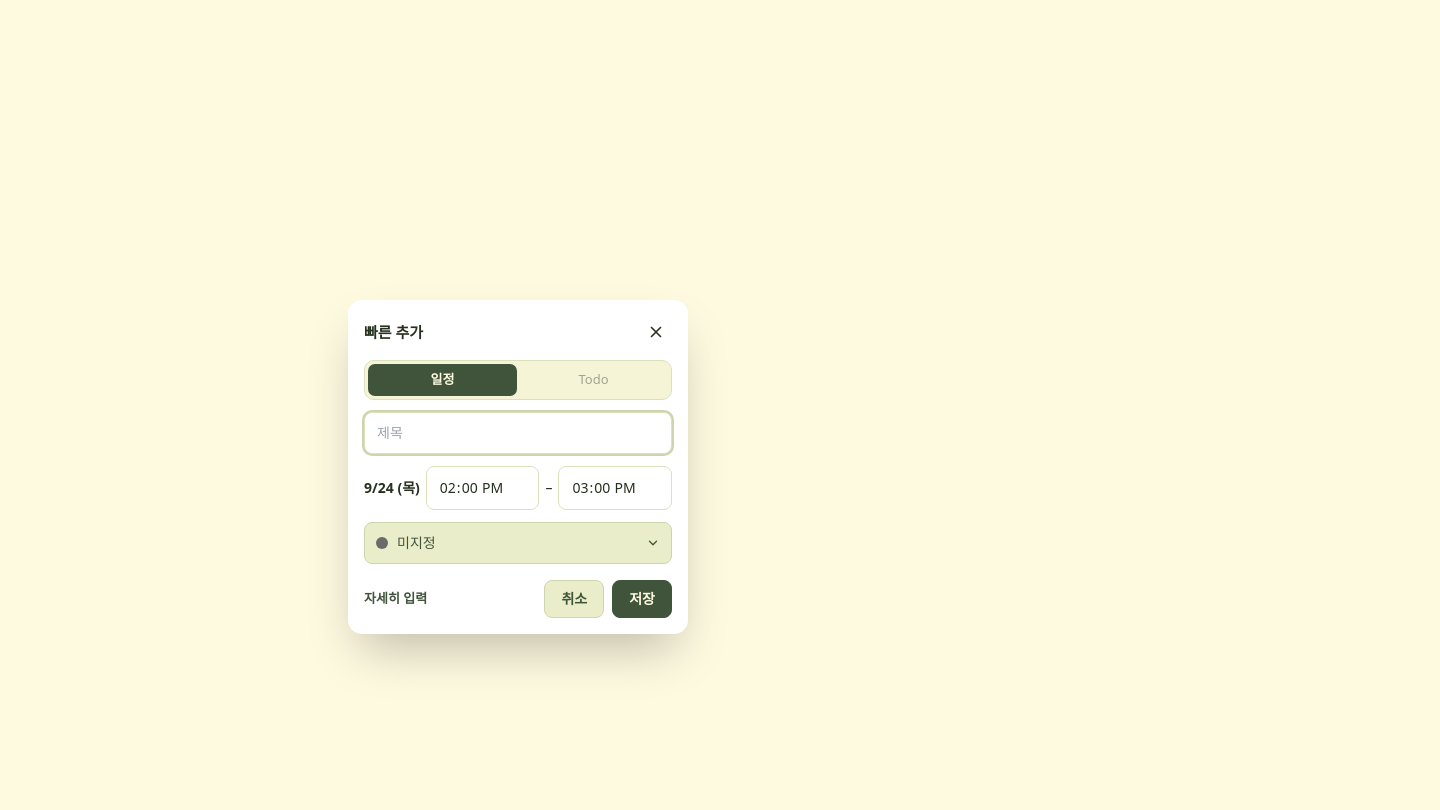
Test case: 빠른 추가 팝업 (US-10, D-017, PC-03) › 제목이 비면 요청 없이 안내
Click the button "저장".
click(642, 598)  # box [612,580,672,618]
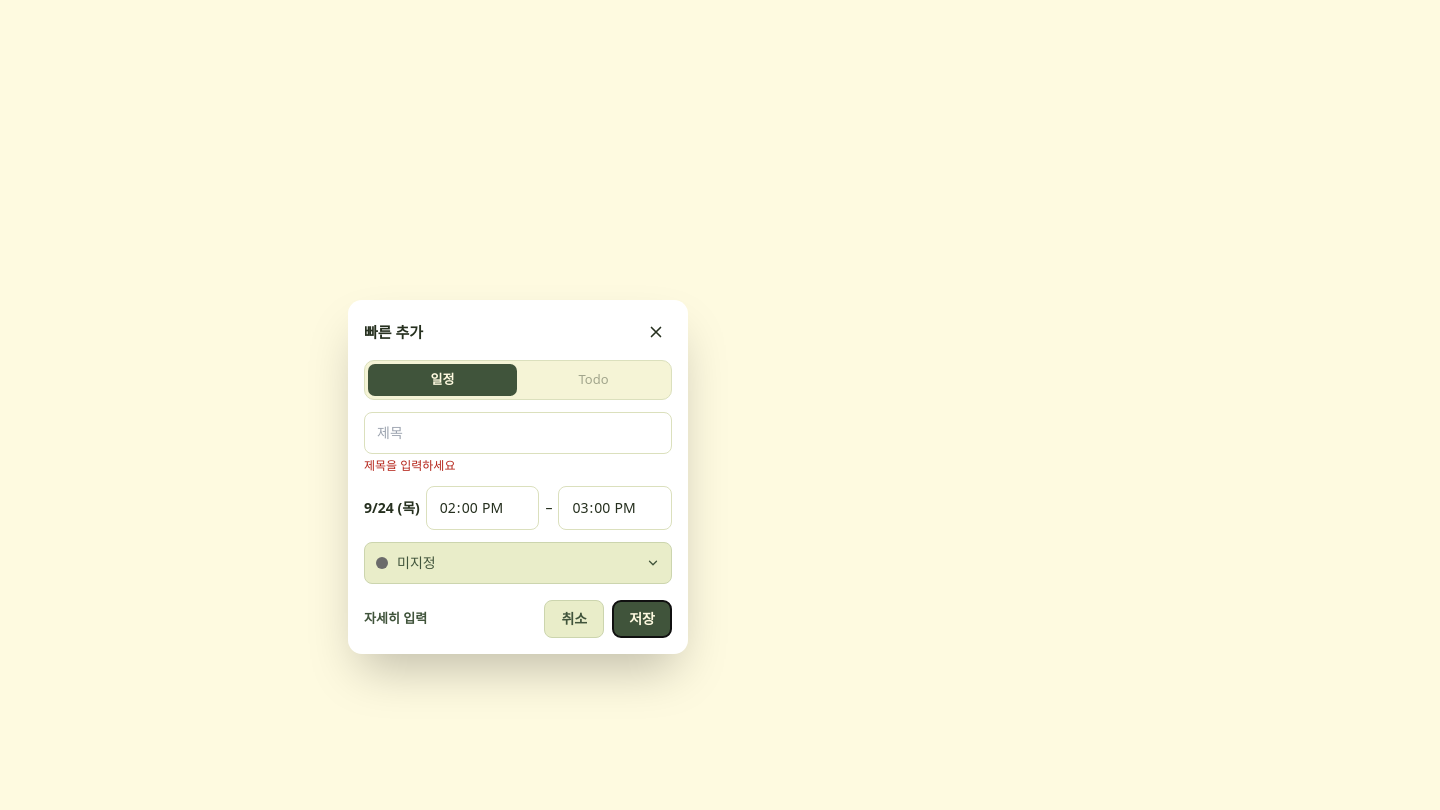
Result: the text "제목을 입력하세요" is shown at [364,456,456,474]
